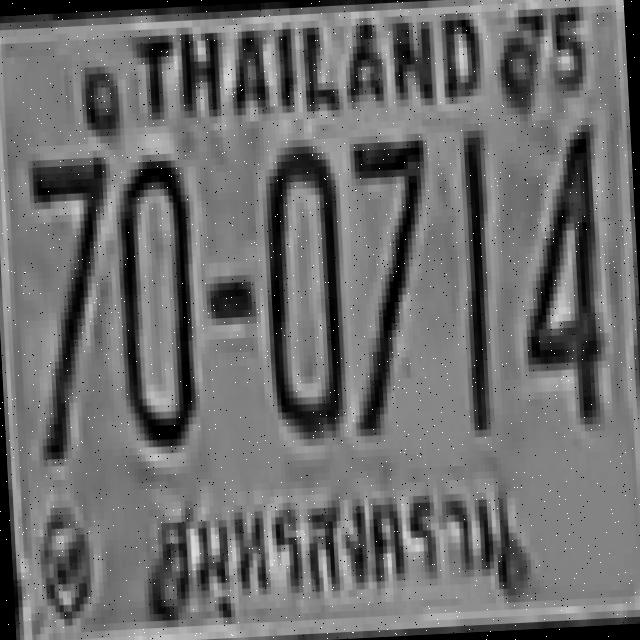0: (255, 138, 344, 434), (110, 153, 198, 441)
1: (455, 127, 495, 427)
4: (512, 117, 604, 420)
7: (26, 150, 119, 453), (341, 133, 434, 430)
SamutSongkhram: (140, 464, 525, 612)
